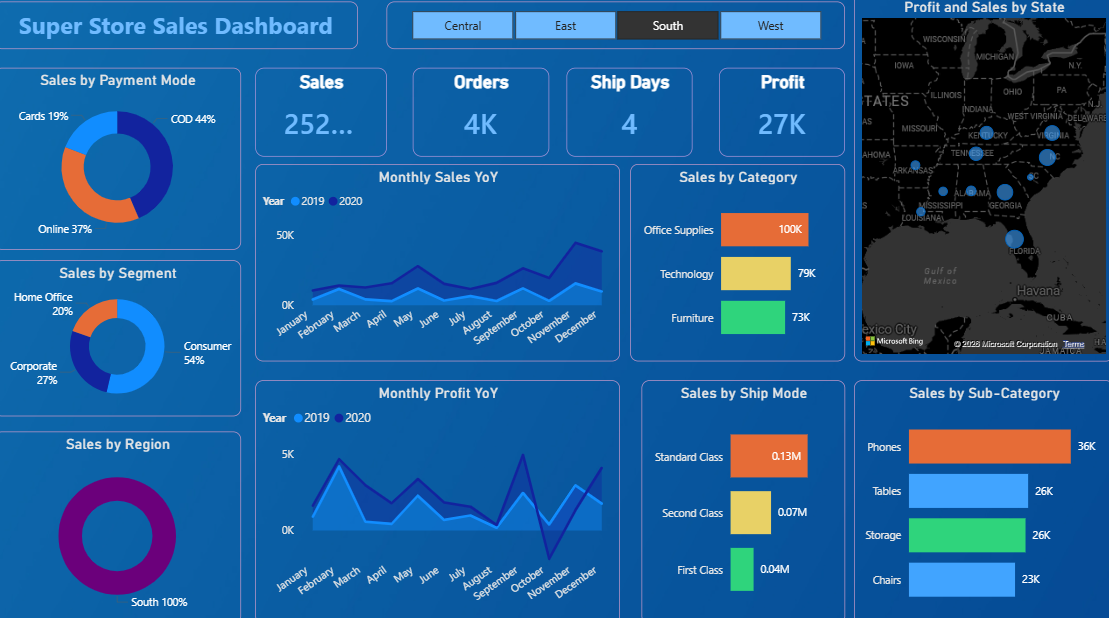

What the dashboard file says about the page in this screenshot:
{"tool":"powerbi","page":{"name":"Page 1","canvas":[1280,720],"ordinal":0},"visuals":[{"type":"clusteredBarChart","title":"Sales by Category","fields":{"Category":["Sheet1 (2).Category"],"Y":["Sum(Sheet1 (2).Sales)"]},"box":[727.1,194.3,245.7,225.7],"z":0},{"type":"clusteredBarChart","title":"Sales by Sub-Category","fields":{"Category":["Sheet1 (2).Sub-Category"],"Y":["Sum(Sheet1 (2).Sales)"]},"box":[982.9,441.4,297.1,278.6],"z":1000},{"type":"clusteredBarChart","title":"Sales by Ship Mode","fields":{"Category":["Sheet1 (2).Ship Mode"],"Y":["Sum(Sheet1 (2).Sales)"]},"box":[740,441.4,232.9,278.6],"z":2000},{"type":"stackedAreaChart","title":"Monthly Sales YoY","fields":{"Category":["Sheet1 (2).Order Date.Variation.Date Hierarchy.Month"],"Y":["Sum(Sheet1 (2).Sales)"],"Series":["Sheet1 (2).Order Date.Variation.Date Hierarchy.Year"]},"box":[298.6,194.3,417.1,225.7],"z":3000},{"type":"stackedAreaChart","title":"Monthly Profit YoY","fields":{"Category":["Sheet1 (2).Order Date.Variation.Date Hierarchy.Month"],"Series":["Sheet1 (2).Order Date.Variation.Date Hierarchy.Year"],"Y":["Sum(Sheet1 (2).Profit)"]},"box":[298.6,441.4,417.1,278.6],"z":4000},{"type":"map","title":"Profit and Sales by State","fields":{"Category":["Sheet1 (2).State"],"Size":["Sum(Sheet1 (2).Sales)"]},"box":[982.9,0,297.1,420],"z":5000},{"type":"donutChart","title":"Sales by Segment","fields":{"Category":["Sheet1 (2).Segment"],"Y":["CountNonNull(Sheet1 (2).State)"]},"box":[0,304,282,178],"z":6000},{"type":"donutChart","title":"Sales by Payment Mode","fields":{"Category":["Sheet1 (2).Payment Mode"],"Y":["Sum(Sheet1 (2).Sales)"]},"box":[0,84,282,208],"z":7000},{"type":"slicer","fields":{"Values":["Sheet1 (2).Region"]},"box":[448.6,8.6,524.3,54.3],"z":8000},{"type":"textbox","box":[0,8,416,54],"z":9000},{"type":"cardVisual","title":"Sales","fields":{"Data":["Sum(Sheet1 (2).Sales)"]},"box":[298.6,84.3,150,101.4],"z":10000},{"type":"cardVisual","title":"Orders","fields":{"Data":["Sum(Sheet1 (2).Quantity)"]},"box":[478.6,84.3,155.7,101.4],"z":11000},{"type":"cardVisual","title":"Profit","fields":{"Data":["Sum(Sheet1 (2).Profit)"]},"box":[828.6,84.3,144.3,101.4],"z":12000},{"type":"cardVisual","title":"Ship Days","fields":{"Data":["Avg(Sheet1 (2).AvgDelivery)"]},"box":[654.3,84.3,144.3,101.4],"z":13000},{"type":"donutChart","title":"Sales by Region","fields":{"Category":["Sheet1 (2).Region"],"Y":["CountNonNull(Sheet1 (2).State)"]},"box":[0,500,282,220],"z":14000}]}

Visuals, with their boxes in screenshot pixels (x1, y1, x2, y2), scaled from the page's 1280x720 canvas onto the 1109x618 screenshot:
"Sales by Category" clusteredBarChart: l=630, t=167, r=843, b=360
"Sales by Sub-Category" clusteredBarChart: l=852, t=379, r=1108, b=617
"Sales by Ship Mode" clusteredBarChart: l=641, t=379, r=843, b=617
"Monthly Sales YoY" stackedAreaChart: l=259, t=167, r=620, b=360
"Monthly Profit YoY" stackedAreaChart: l=259, t=379, r=620, b=617
"Profit and Sales by State" map: l=852, t=0, r=1108, b=360
"Sales by Segment" donutChart: l=0, t=261, r=244, b=414
"Sales by Payment Mode" donutChart: l=0, t=72, r=244, b=251
slicer - Sheet1 (2).Region: l=389, t=7, r=843, b=54
textbox: l=0, t=7, r=360, b=53
"Sales" cardVisual: l=259, t=72, r=389, b=159
"Orders" cardVisual: l=415, t=72, r=550, b=159
"Profit" cardVisual: l=718, t=72, r=843, b=159
"Ship Days" cardVisual: l=567, t=72, r=692, b=159
"Sales by Region" donutChart: l=0, t=429, r=244, b=617
